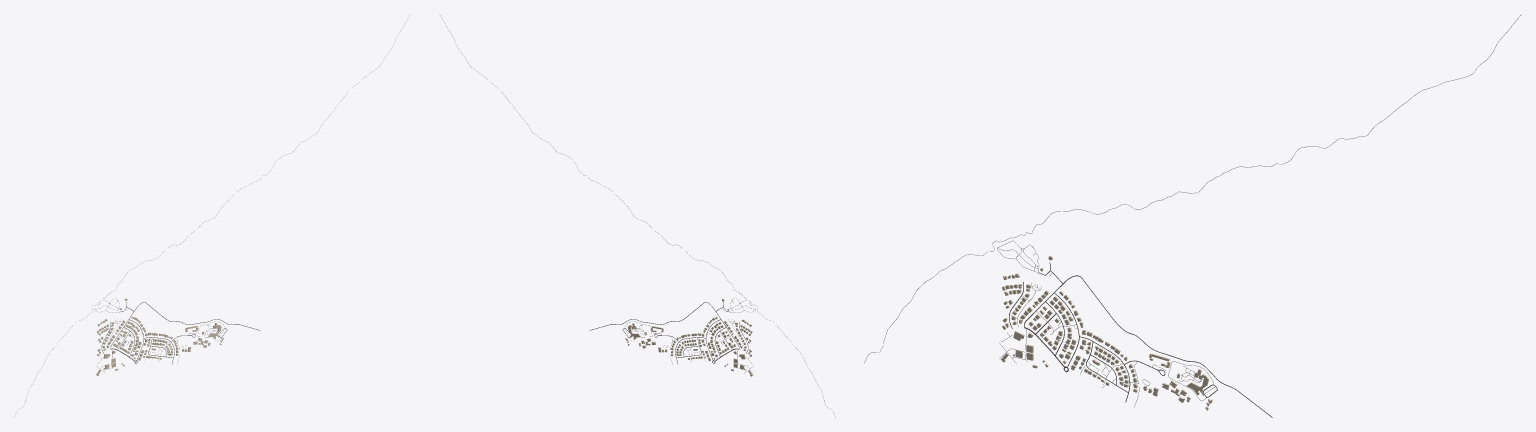
Rendered from historic-palestine-04_23_3463_3174.glb.
3 views of the same model, side by side, from view 1: azimuth 30°, elevation 25°; view 2: azimuth 150°, elevation 25°; view 3: azimuth 330°, elevation 25° (orthographic). The views are drawn at different scales.
Visible parts, largest first — view 1: no part large enough to name; view 2: no part large enough to name; view 3: Road .001.
Boxes of the visible parts, <box> form: Road .001: <box>864,14,1521,362</box>.
Size of the model in its own units: 2988 by 2214 by 8.7.
